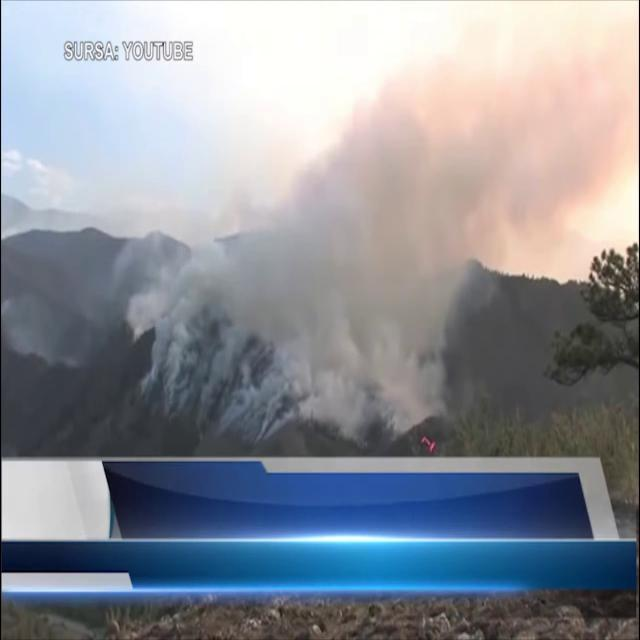Smoke: (124, 4, 622, 444)
